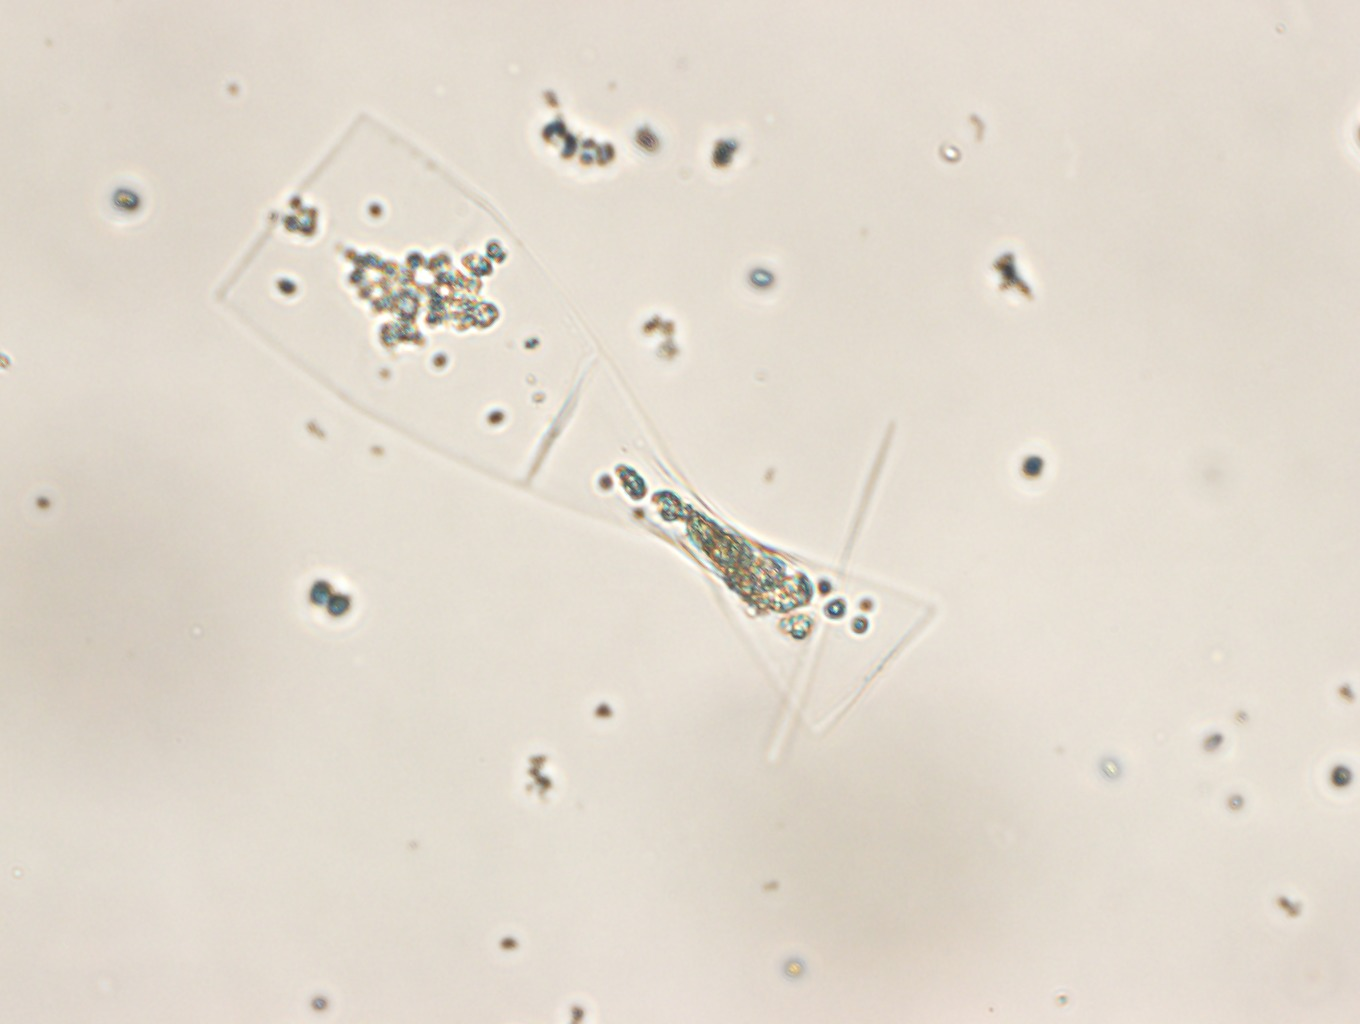helicotheca: (215, 110, 941, 733)
